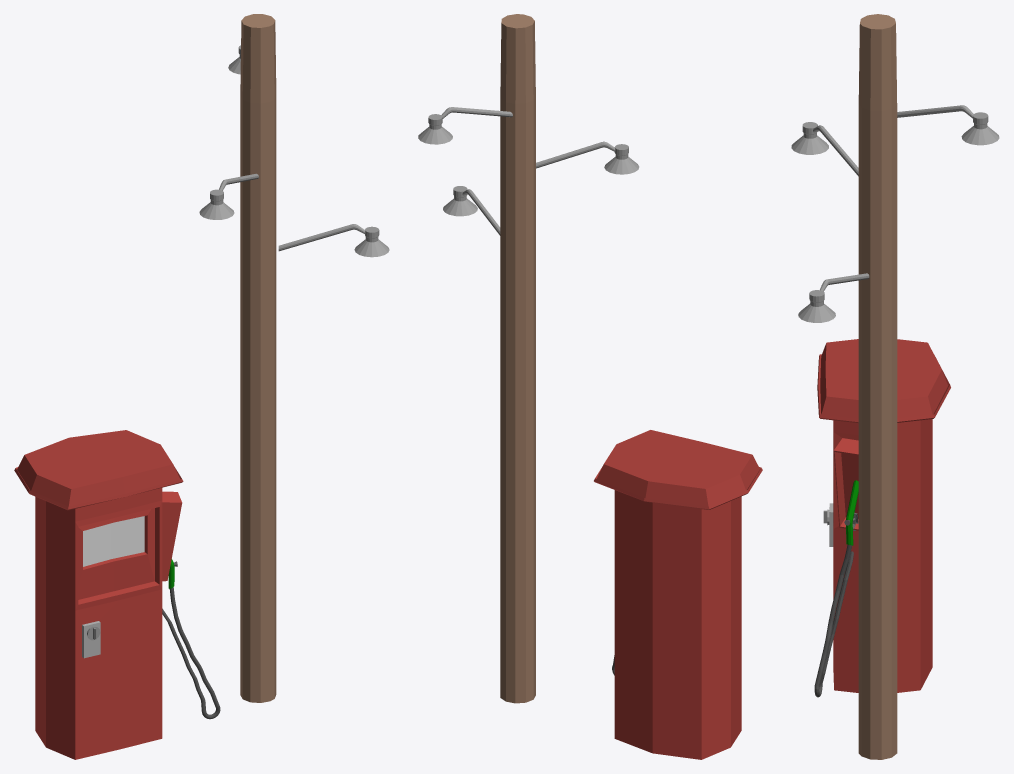
The model's file is GasStation_5_Item.fbx.
The picture shows the model from 3 angles, left to right: view 1: azimuth 30°, elevation 25°; view 2: azimuth 150°, elevation 25°; view 3: azimuth 270°, elevation 25°; orthographic projection. The views are drawn at different scales.
Visible parts, largest first — view 1: GasStation_5_GasStand, GasStation_5_Lamp, GasStation_5_GasPomp; view 2: GasStation_5_GasStand, GasStation_5_Lamp; view 3: GasStation_5_Lamp, GasStation_5_GasStand, GasStation_5_GasPomp.
Boxes of the visible parts, box(x1,y1,x2,y2) form: GasStation_5_GasStand: box(14, 430, 183, 759); GasStation_5_Lamp: box(199, 14, 389, 702); GasStation_5_GasPomp: box(162, 559, 220, 719); GasStation_5_GasStand: box(594, 430, 762, 759); GasStation_5_Lamp: box(418, 14, 639, 703); GasStation_5_Lamp: box(791, 14, 999, 759); GasStation_5_GasStand: box(817, 339, 950, 692); GasStation_5_GasPomp: box(814, 480, 858, 697).
Bounding box in the file's own units: 269 × 524 × 135.
